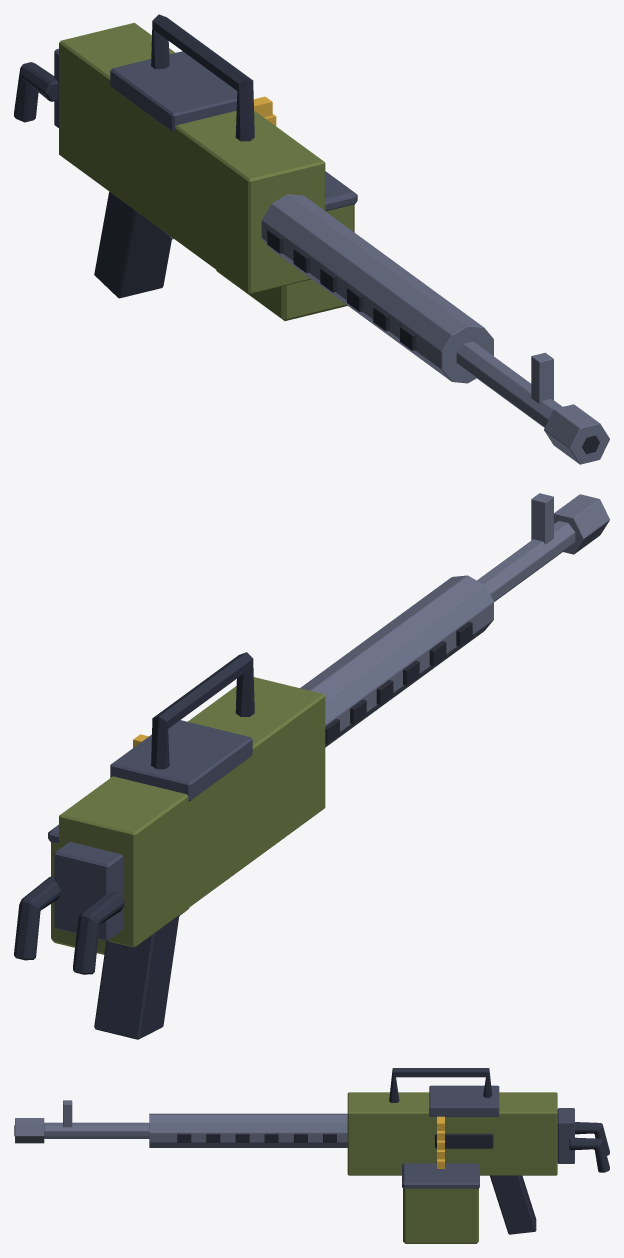
The model's file is myw_heavymachinegun.glb.
3 views of the same model, one above another, from view 1: azimuth 30°, elevation 25°; view 2: azimuth 150°, elevation 25°; view 3: azimuth 270°, elevation 25° (orthographic). The views are drawn at different scales.
Visible parts, largest first — view 1: Body, Barrel, Handle, AmmoBox; view 2: Body, Barrel, Handle, AmmoBox; view 3: Body, Barrel, AmmoBox, Handle, Belt.
Part boxes in pixels (<box>): Body: <box>14,22,325,298</box>; Barrel: <box>261,194,609,464</box>; Handle: <box>151,14,254,141</box>; AmmoBox: <box>216,171,357,320</box>; Body: <box>14,677,325,1039</box>; Barrel: <box>300,493,609,747</box>; Handle: <box>151,652,254,769</box>; AmmoBox: <box>48,824,189,954</box>; Body: <box>347,1085,609,1234</box>; Barrel: <box>14,1100,347,1147</box>; AmmoBox: <box>402,1163,479,1243</box>; Handle: <box>389,1068,492,1102</box>; Belt: <box>437,1116,444,1168</box>.
Bounding box in the file's own units: 0.88 × 1.52 × 5.11.
